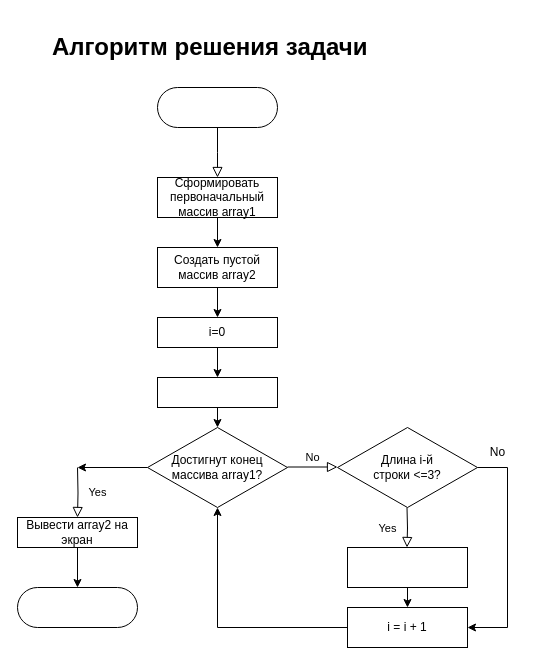
The diagram is 535 pixels wide and 665 high, and some of its shapes have lost their labels. The box of each missing label's shape, as (x1, y1, x2, y2) in pixels:
Добавить arrya1[i] в array2: (346, 546, 468, 588)
конец: (16, 586, 138, 628)
начало: (156, 86, 278, 128)
начать с array1[i]: (156, 376, 278, 408)
